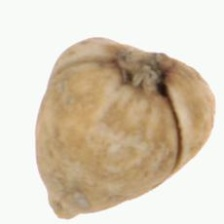L1: (110, 38, 169, 92), (44, 194, 82, 220)
L2: (34, 36, 215, 220)
